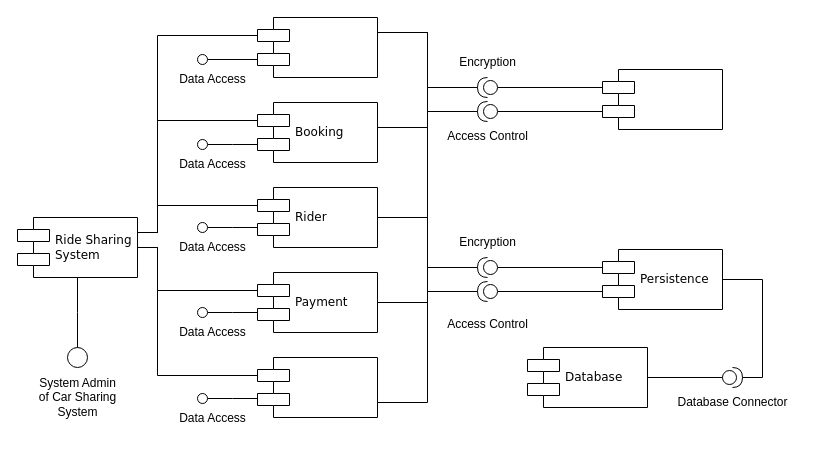
Some shapes in this 815 by 451 pixel diagram are drawn without their labels. The centre of each missing label's shape, as x and y in pixels:
Car: point 317,47
Insurance: point 317,387
Security: point 662,99
